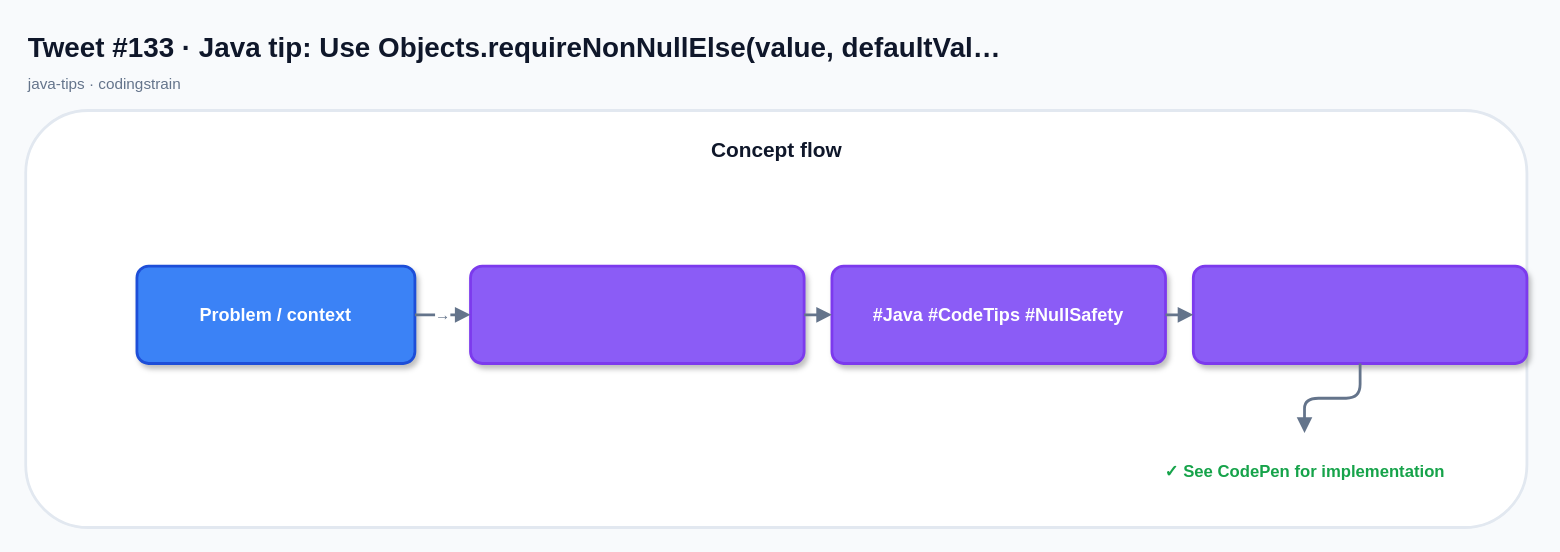
Some shapes in this 1560 by 552 pixel diagram are drawn without their labels. Here are the shapes that lost their labels. From the top down, the centre of each, then its label:
At [638,316]: "💡 Java tip: Use Objects.requireNonNullElse(value, defaultValue) to avo".
At [1361,316]: "Runnable sample: `java-tips`".
